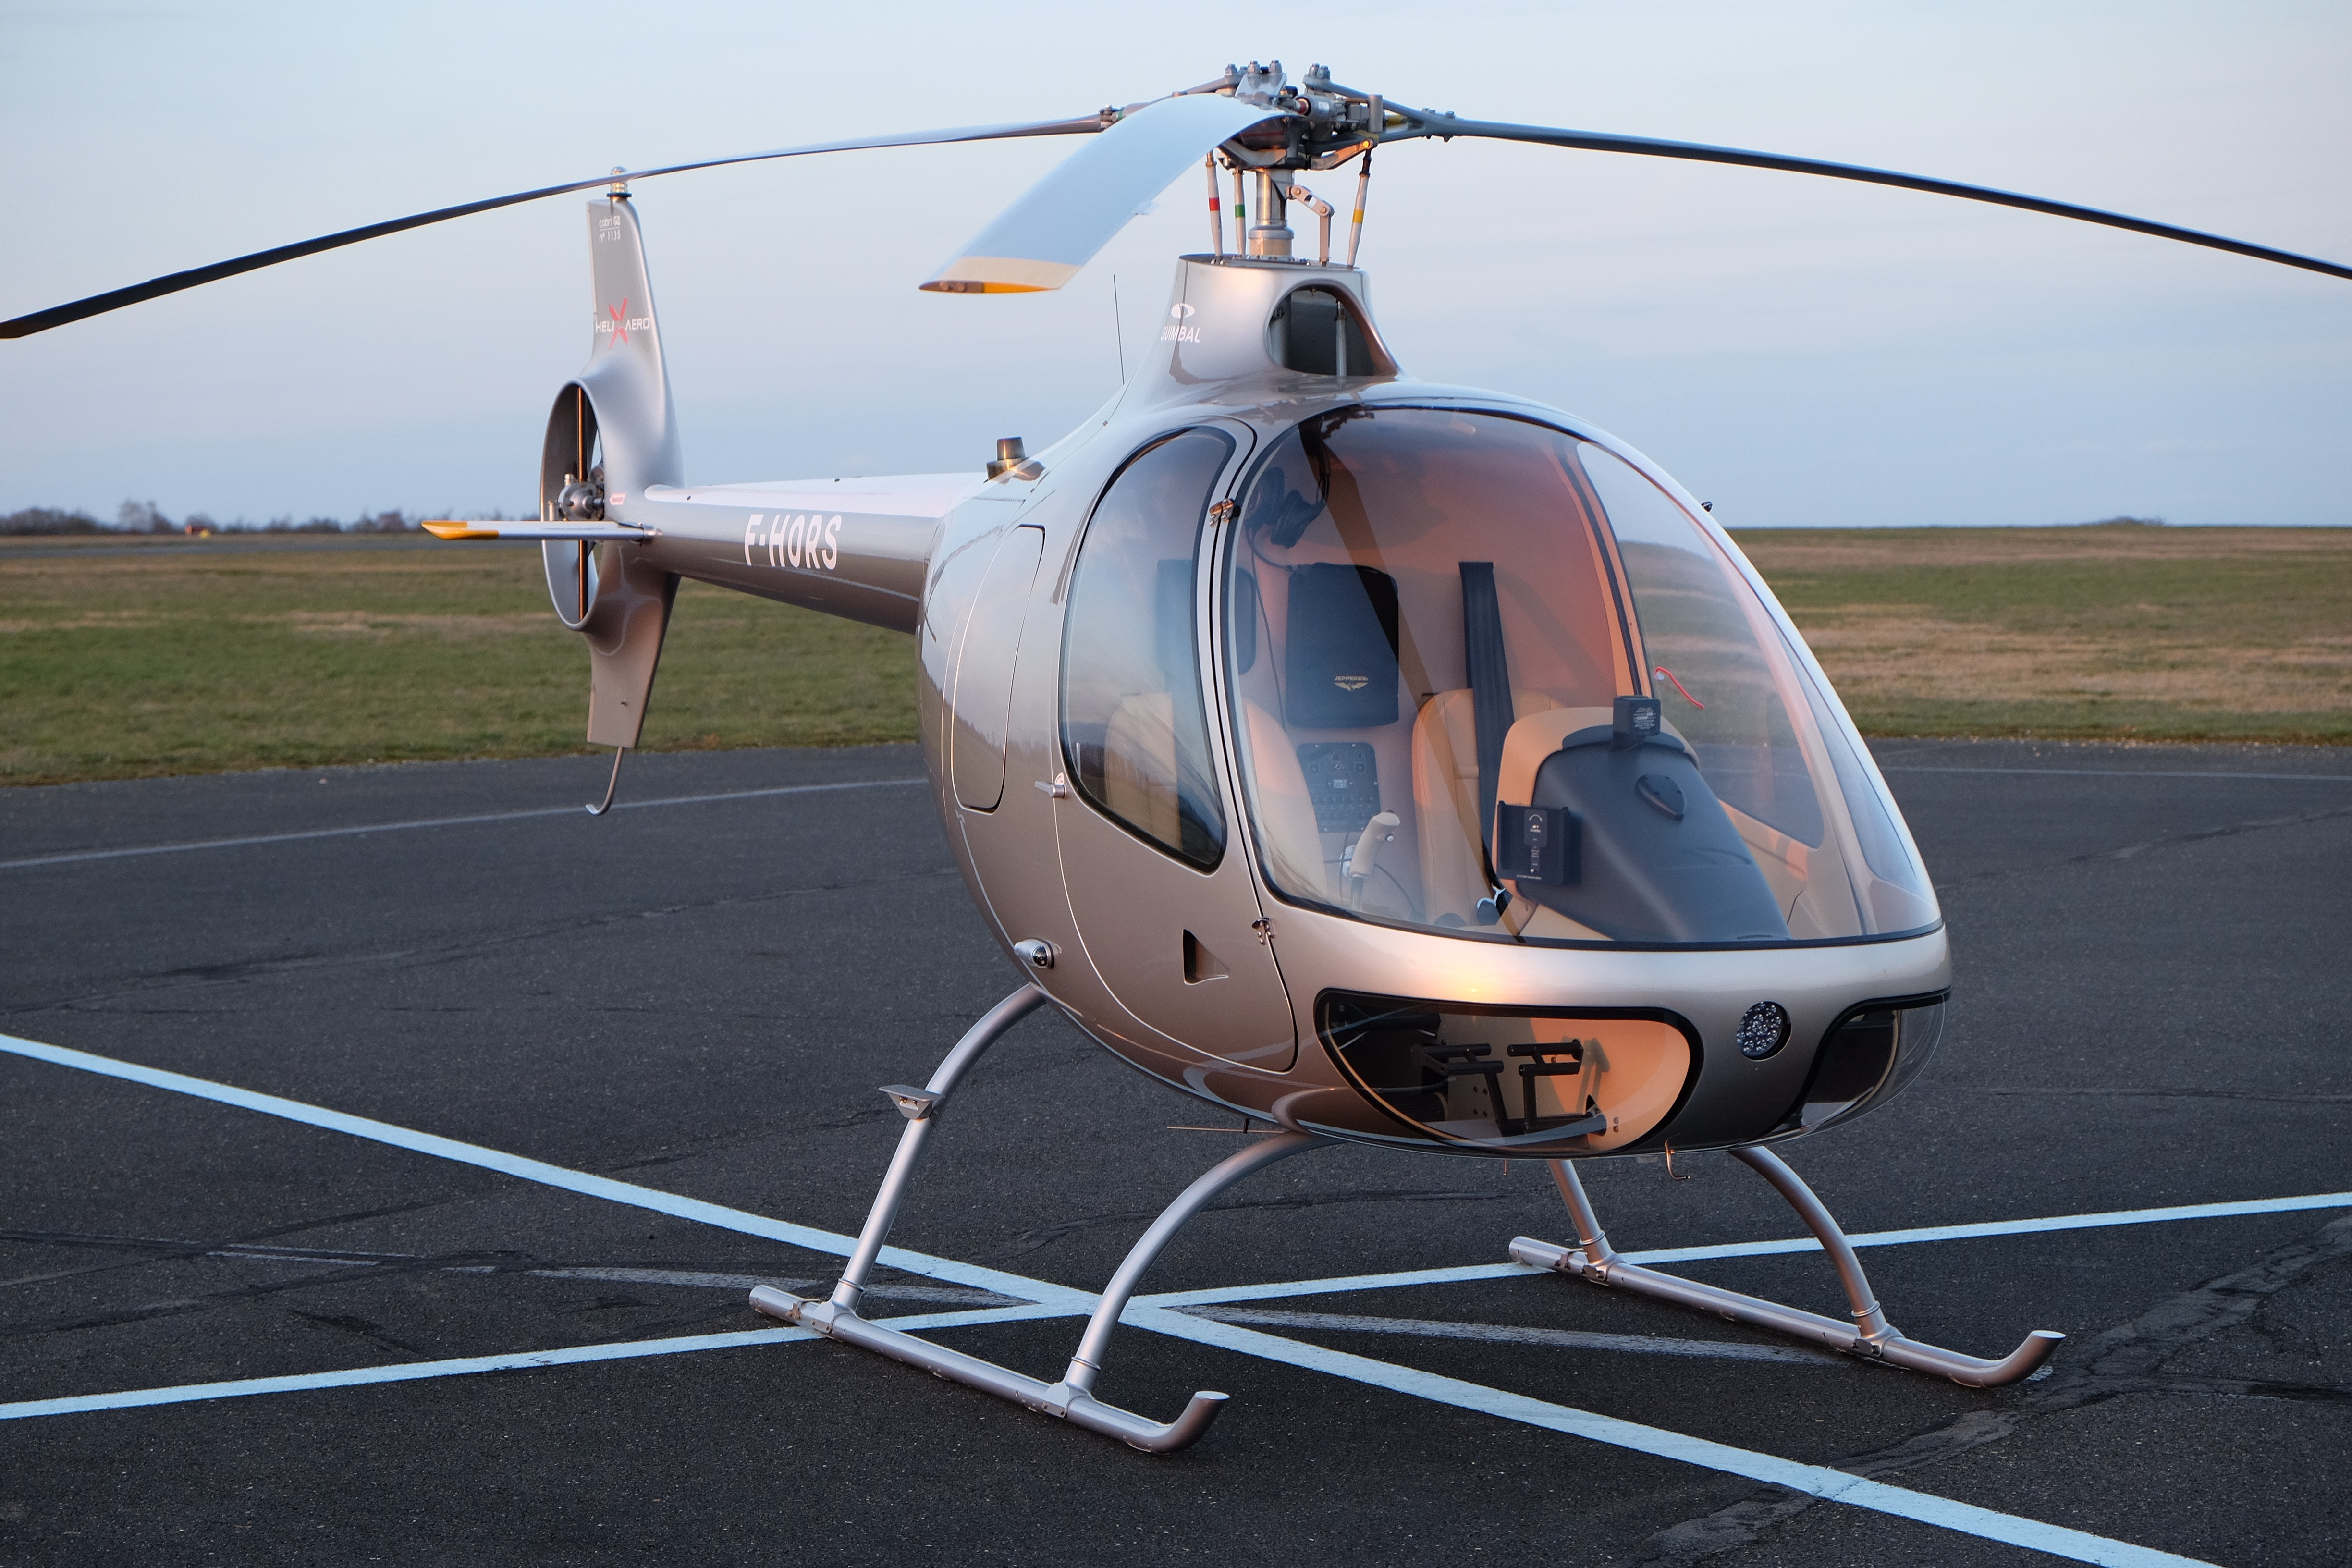Aeronef_de_loisir: (3, 40, 2352, 1479)
